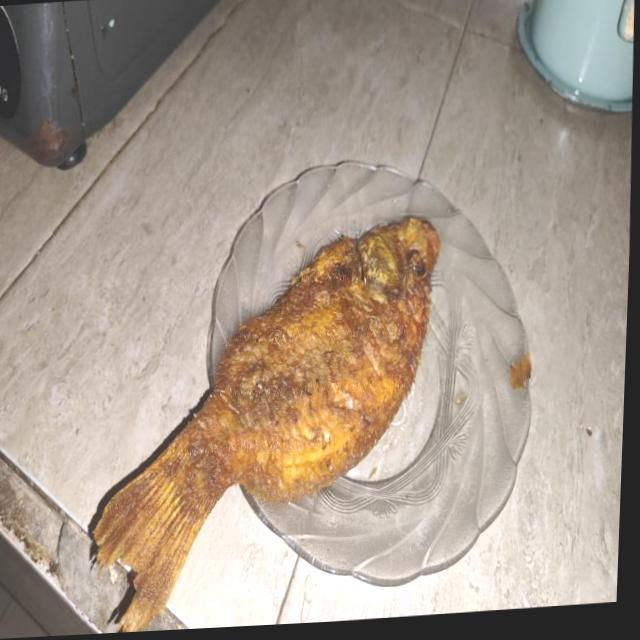ikan_mujair: (93, 217, 439, 632)
